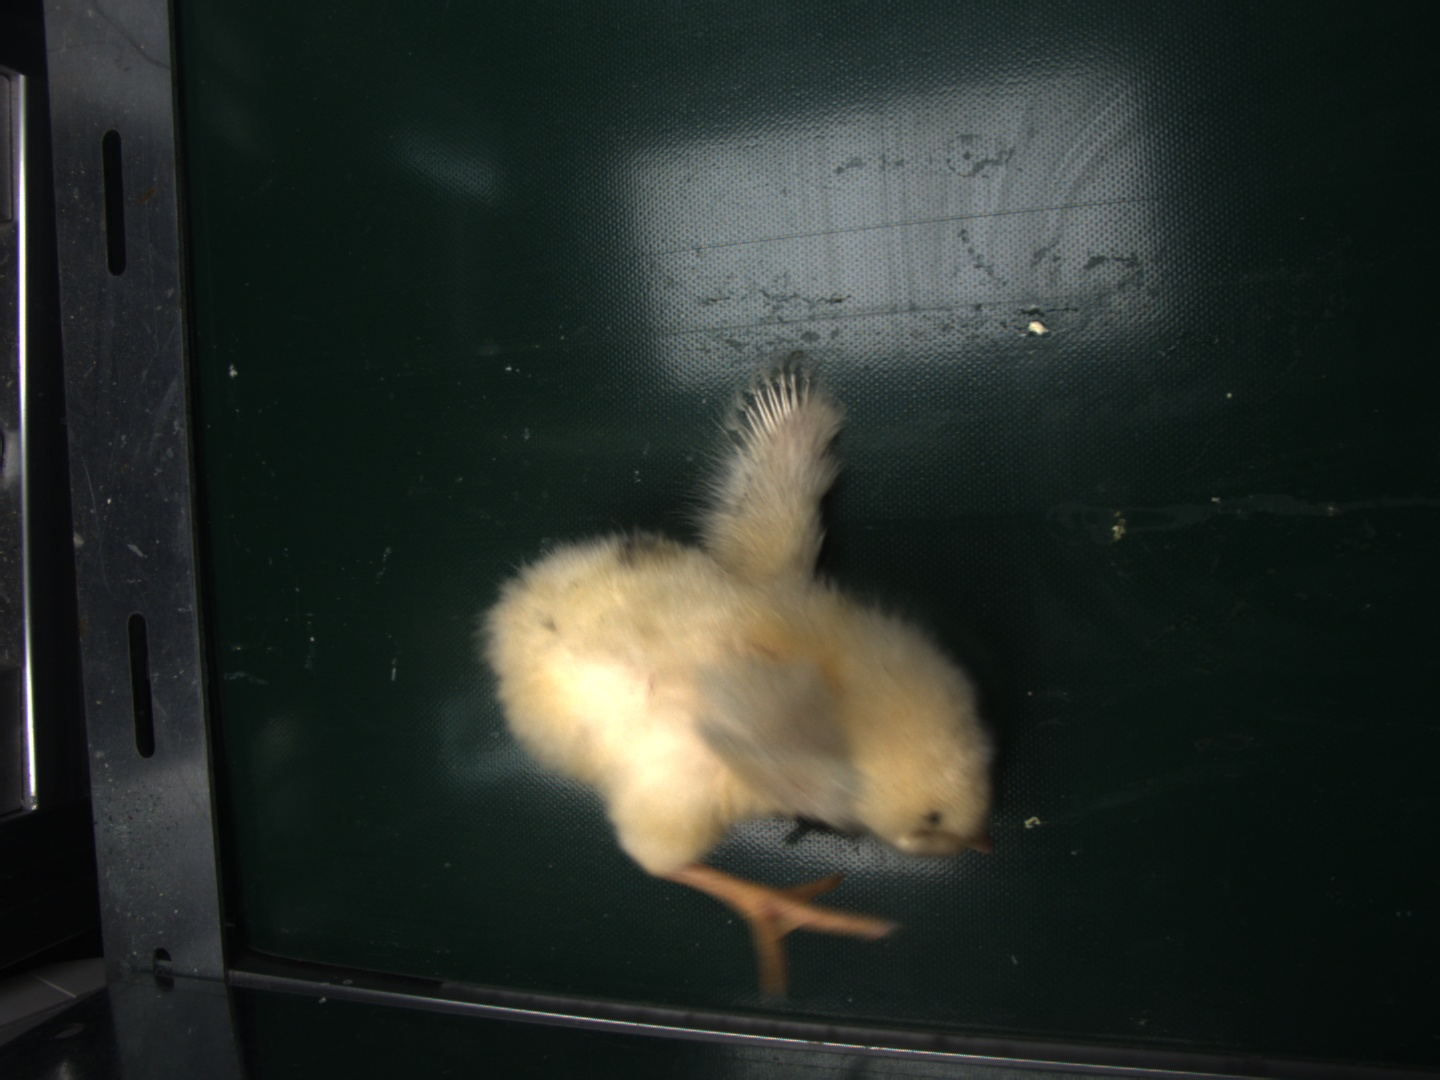male: (731, 369, 805, 450)
